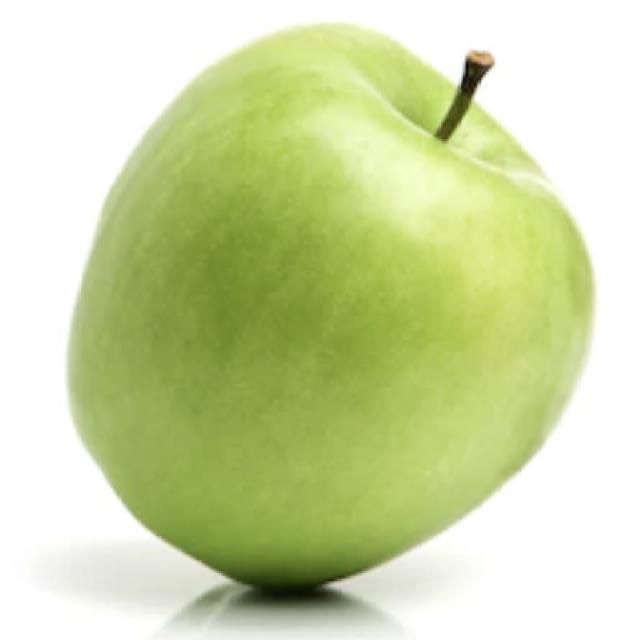Fresh Apple: (75, 28, 588, 597)
